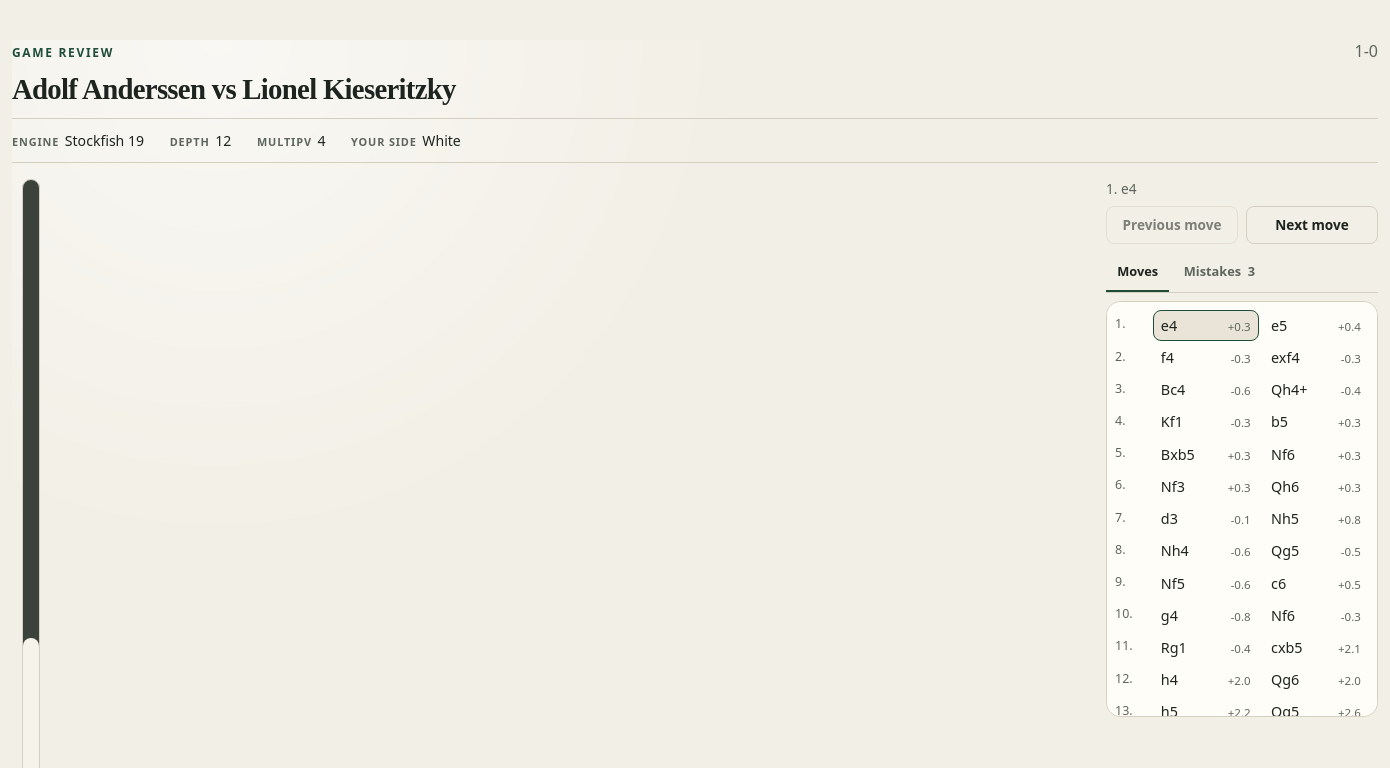
review › switches between the move list and mistakes tabs
This screenshot has width=1390, height=768.
Check: the panel named "Moves" is shown, box [1106,293,1378,717]
Click the tab "Mistakes 3": (1219, 272) [1172,252,1266,292]
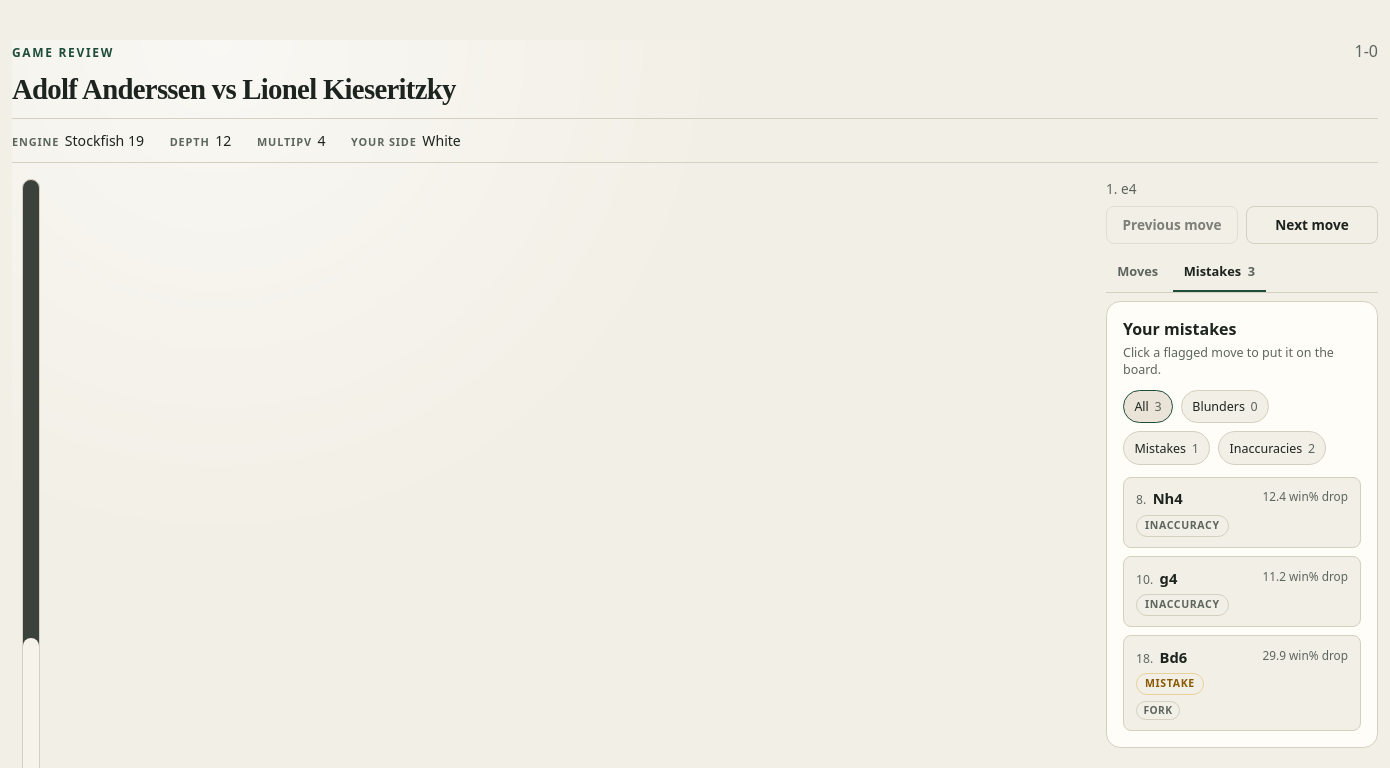
Check: the element "Your mistakes" is shown, box [1106,301,1378,748]
